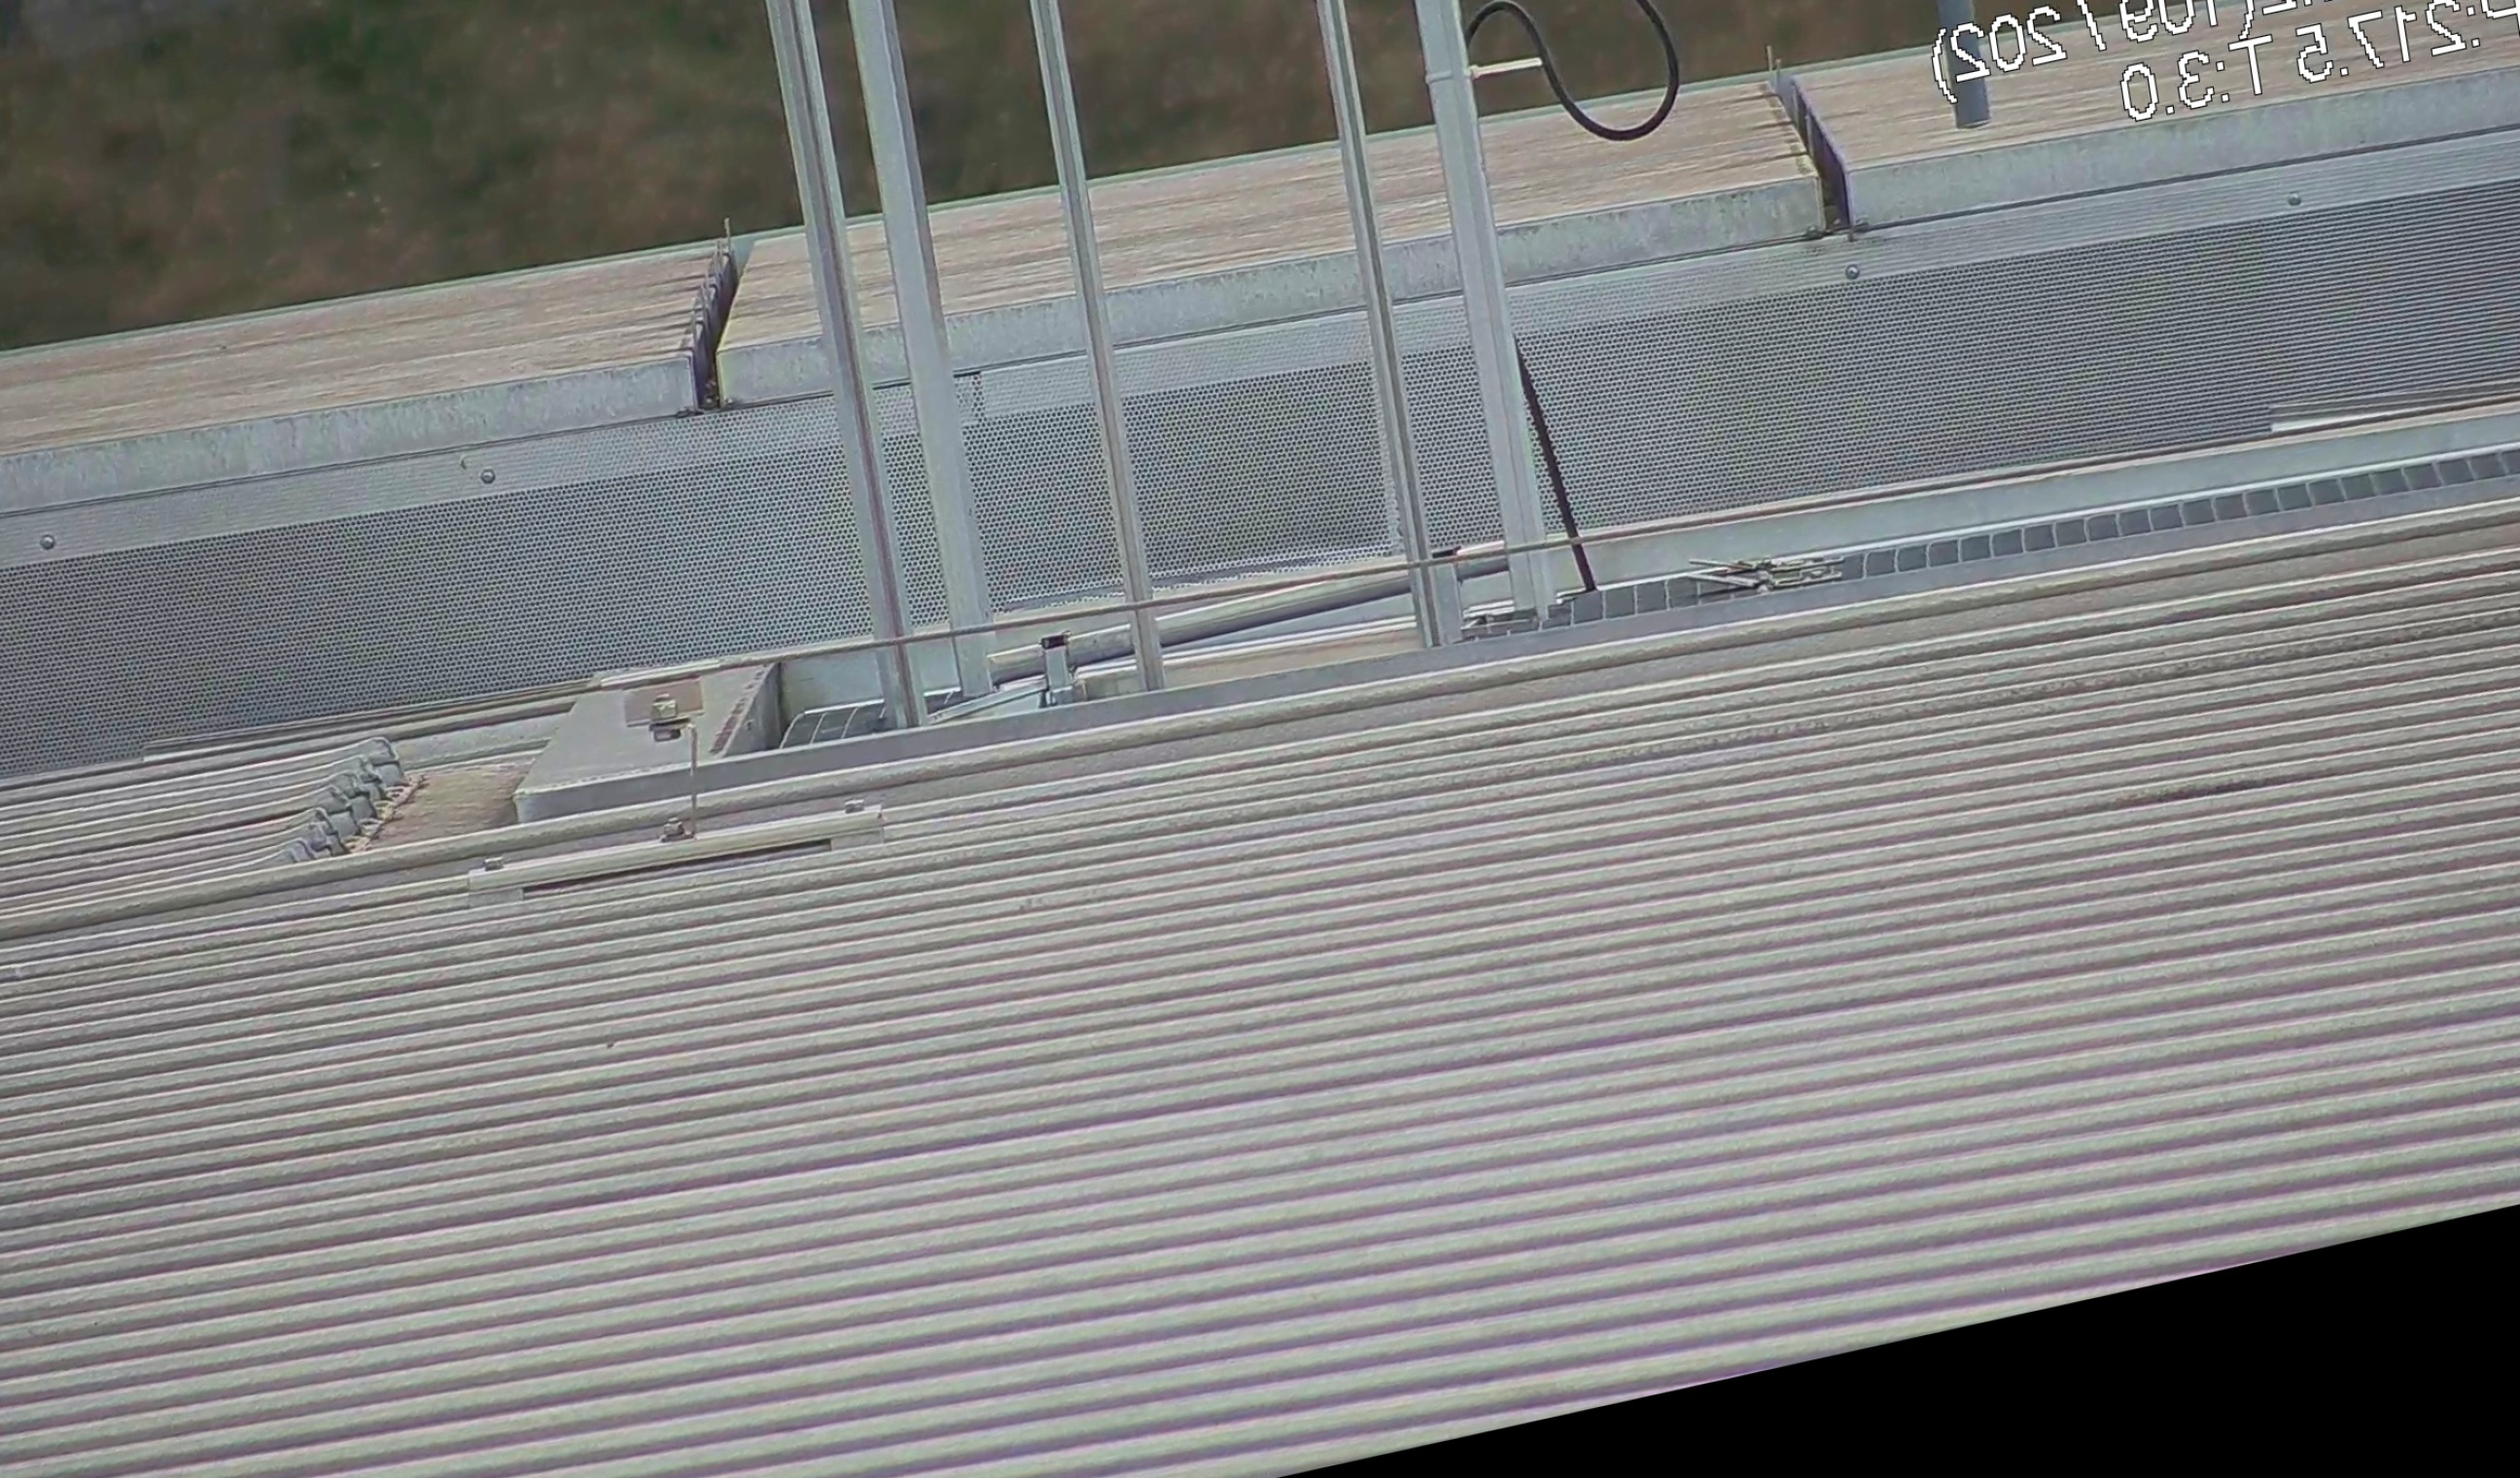Other: (638, 206, 781, 422)
